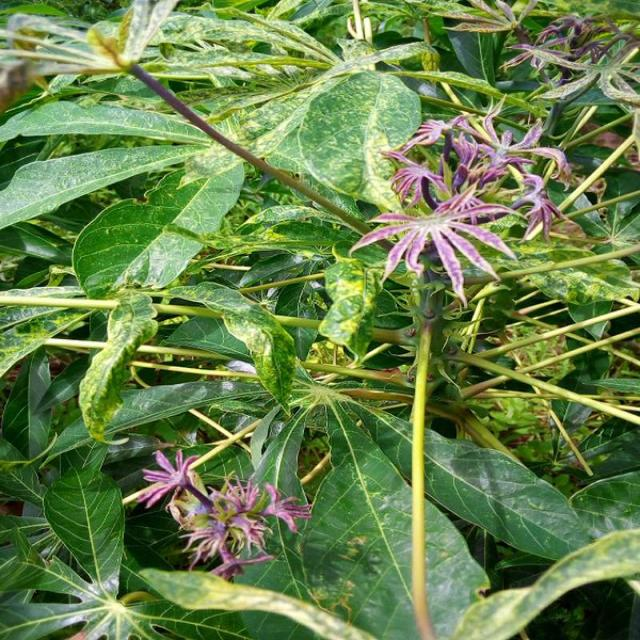cassava leaf: (0, 1, 638, 638)
